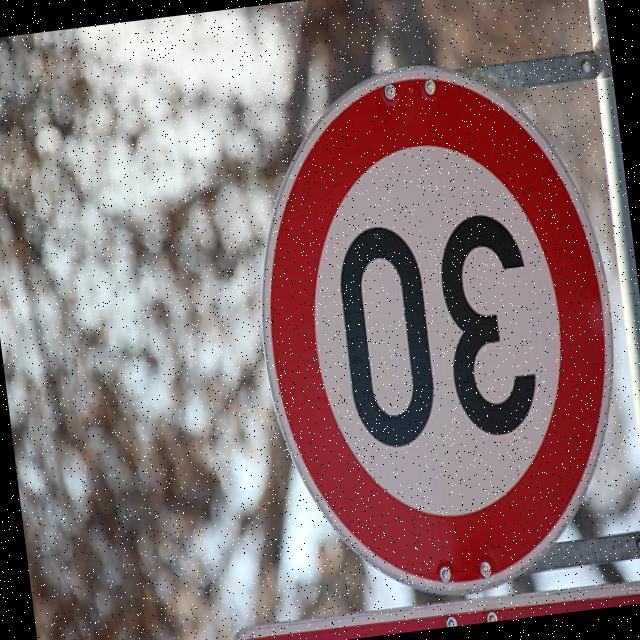speed_limit_30: (225, 42, 640, 612)
